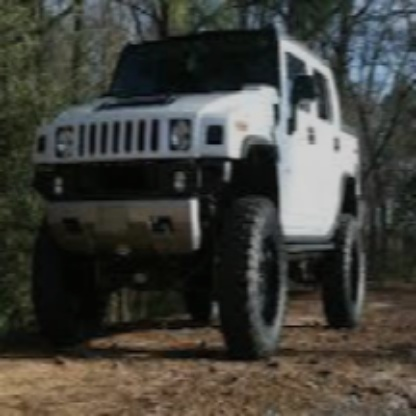Vehicle: (33, 28, 369, 362)
